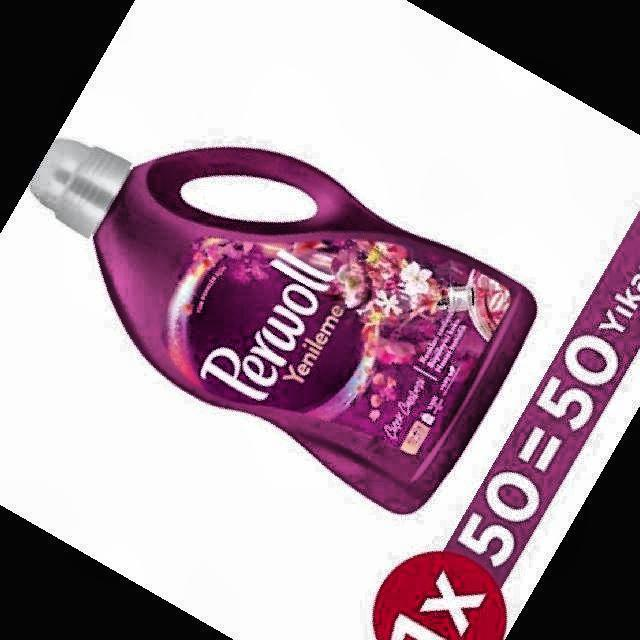plastic: (30, 139, 536, 512)
